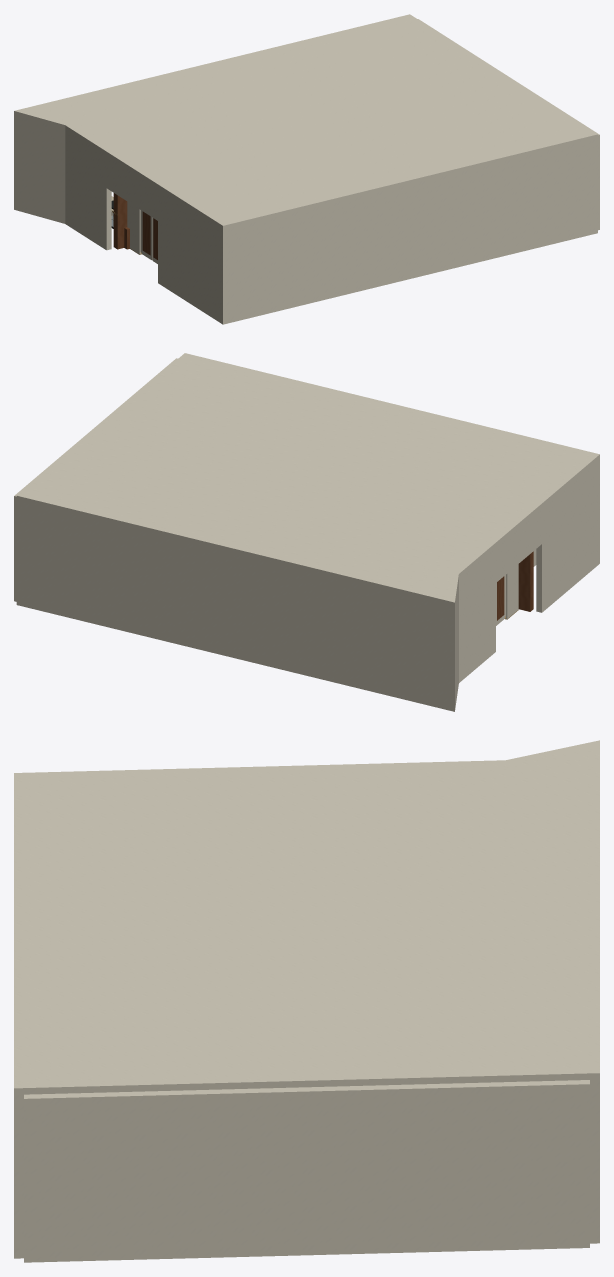
3 renders of one model, top to bottom at view 1: azimuth 30°, elevation 25°; view 2: azimuth 150°, elevation 25°; view 3: azimuth 270°, elevation 25°, orthographic. The views are drawn at different scales.
Visible parts, largest first — view 1: PremiumPressureClosure, ForePartyWall, InnerAftPartyReturn, InnerForePartyReturn, ArrivalHeader, ArrivalAftPocket, PrivateEntry_01_ENTRY_PocketSkin_1_1, HeldFrontageOpaqueEnclosure; view 2: PremiumPressureClosure, AftPartyWall, InnerForePartyReturn, InnerAftPartyReturn, ArrivalHeader, ArrivalForePocket, HeldFrontageOpaqueEnclosure, PrivateEntry_01_ENTRY_PocketSkin_-1_1; view 3: PremiumPressureClosure, HeldFrontageOpaqueEnclosure, ForePartyWall, AftPartyWall.
Boxes of the visible parts, left/top/right/bottom form: PremiumPressureClosure: left=14, top=14, right=597, bottom=229; ForePartyWall: left=219, top=138, right=597, bottom=324; InnerAftPartyReturn: left=14, top=114, right=111, bottom=250; InnerForePartyReturn: left=158, top=188, right=227, bottom=324; ArrivalHeader: left=106, top=156, right=157, bottom=220; ArrivalAftPocket: left=113, top=193, right=127, bottom=249; PrivateEntry_01_ENTRY_PocketSkin_1_1: left=127, top=201, right=140, bottom=254; HeldFrontageOpaqueEnclosure: left=418, top=19, right=599, bottom=230; PremiumPressureClosure: left=16, top=353, right=599, bottom=606; AftPartyWall: left=16, top=500, right=454, bottom=711; InnerForePartyReturn: left=536, top=461, right=596, bottom=612; InnerAftPartyReturn: left=449, top=547, right=495, bottom=711; ArrivalHeader: left=496, top=508, right=541, bottom=582; ArrivalForePocket: left=518, top=551, right=533, bottom=611; HeldFrontageOpaqueEnclosure: left=14, top=358, right=177, bottom=601; PrivateEntry_01_ENTRY_PocketSkin_-1_1: left=506, top=564, right=518, bottom=618; PremiumPressureClosure: left=14, top=740, right=599, bottom=1094; HeldFrontageOpaqueEnclosure: left=24, top=1080, right=589, bottom=1262; ForePartyWall: left=14, top=1094, right=23, bottom=1258; AftPartyWall: left=590, top=1079, right=599, bottom=1243.
Bounding box in the file's own units: 19.73 × 4.45 × 13.88.
158 materials, 152 textured.
